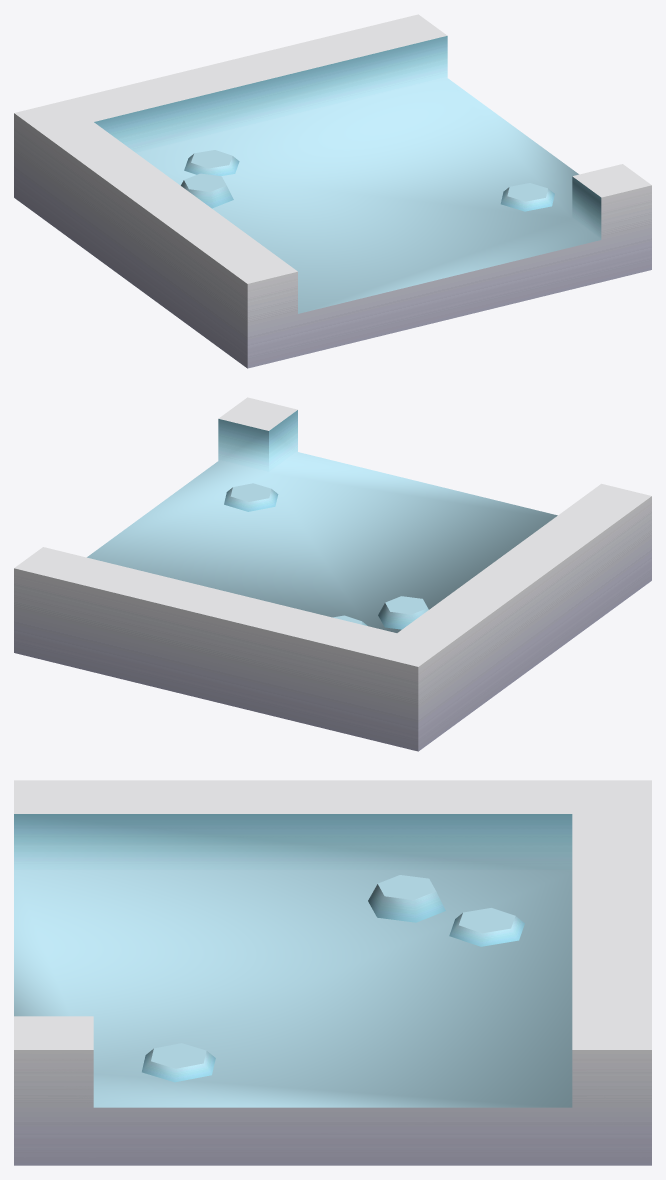
Rendered from snow-tile-corner-square.glb.
The picture shows the model from 3 angles, top to bottom: view 1: azimuth 30°, elevation 25°; view 2: azimuth 150°, elevation 25°; view 3: azimuth 270°, elevation 25°; orthographic projection. The views are drawn at different scales.
Parts seen in each view (by area): view 1: snow-tile-corner-square; view 2: snow-tile-corner-square; view 3: snow-tile-corner-square.
Part boxes in pixels (left/top/right/bottom): snow-tile-corner-square: left=14, top=14, right=651, bottom=368; snow-tile-corner-square: left=14, top=397, right=651, bottom=751; snow-tile-corner-square: left=14, top=780, right=651, bottom=1165.
Bounding box in the file's own units: 1 × 0.2 × 1.
1 material, 1 textured.
